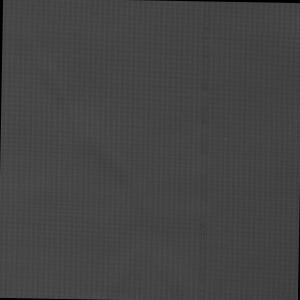Wrinkle: (1, 15, 191, 300)
